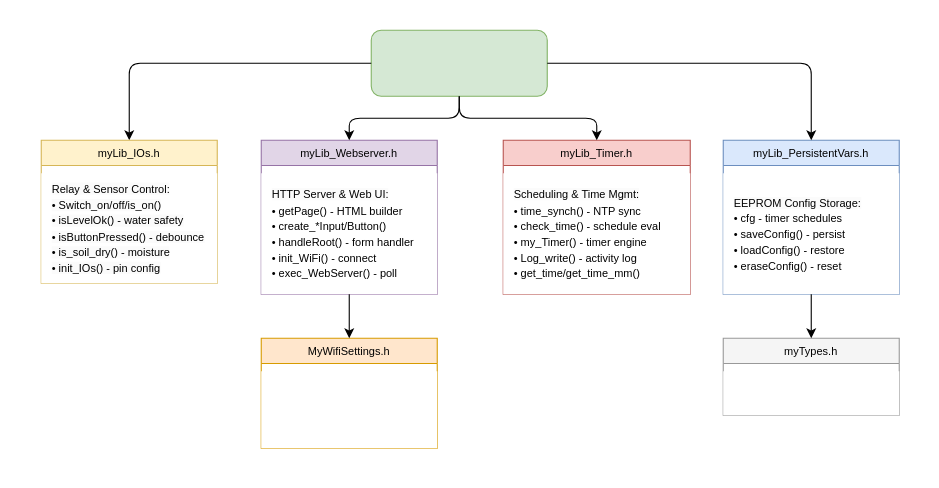
Image size: 939x488. Some labels were removed from this diagram. The shapes that lost their labels are listed below. From the top down, each one's centre as x and y in pixels, then its label:
(x=458, y=62): WifiTimer.ino
(x=349, y=409): WiFi Credentials: • ssid • password
(x=811, y=393): Type Definitions & Constants
